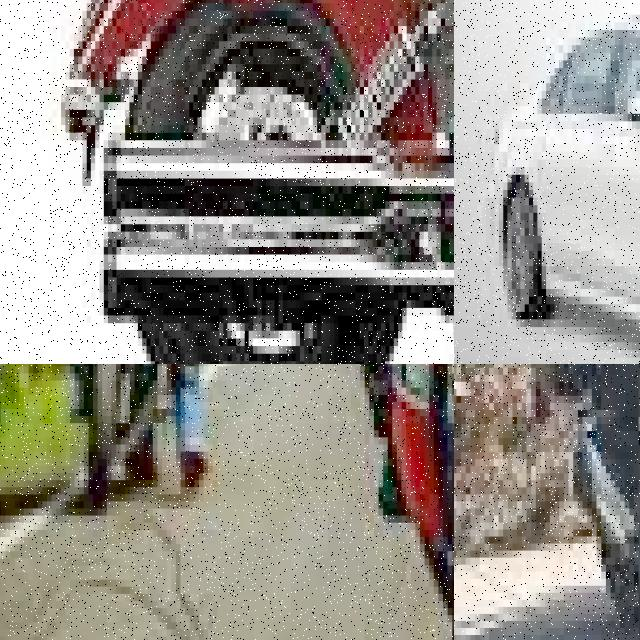bike: (52, 0, 454, 364), (337, 364, 454, 640), (531, 364, 640, 640), (42, 364, 198, 487)
car: (475, 0, 640, 364)
